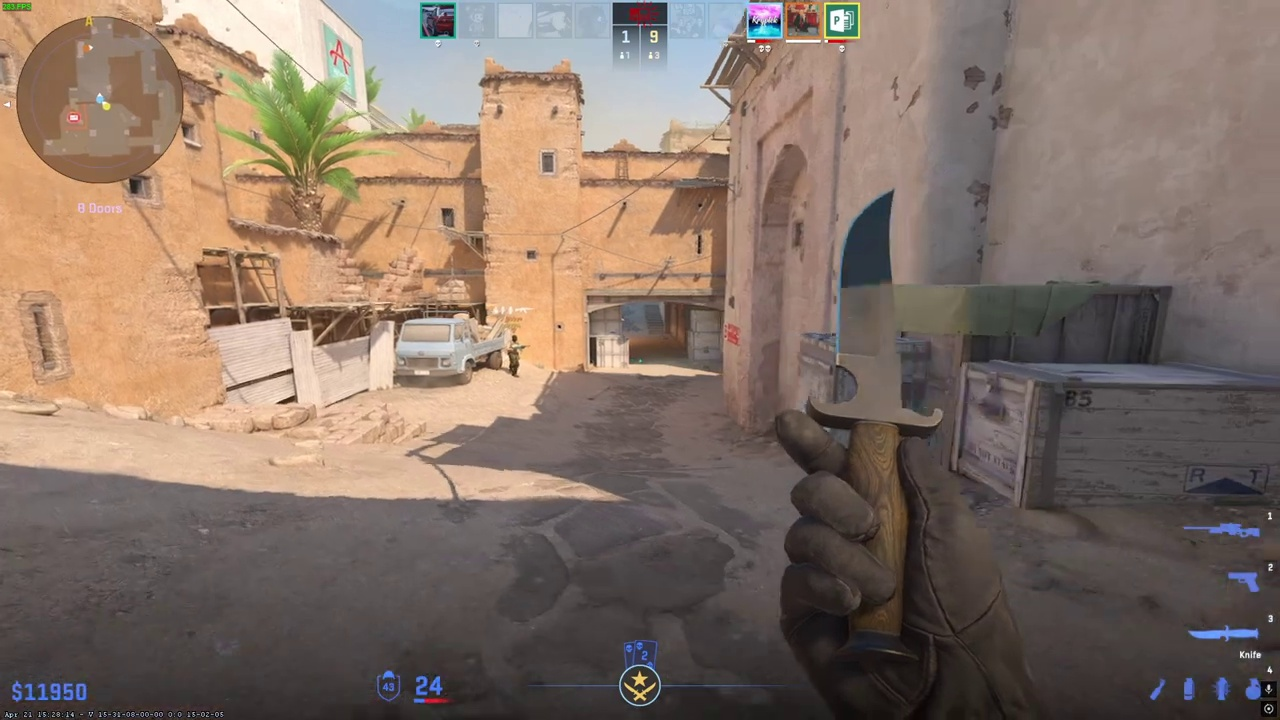Terrorist: (506, 335, 522, 377)
